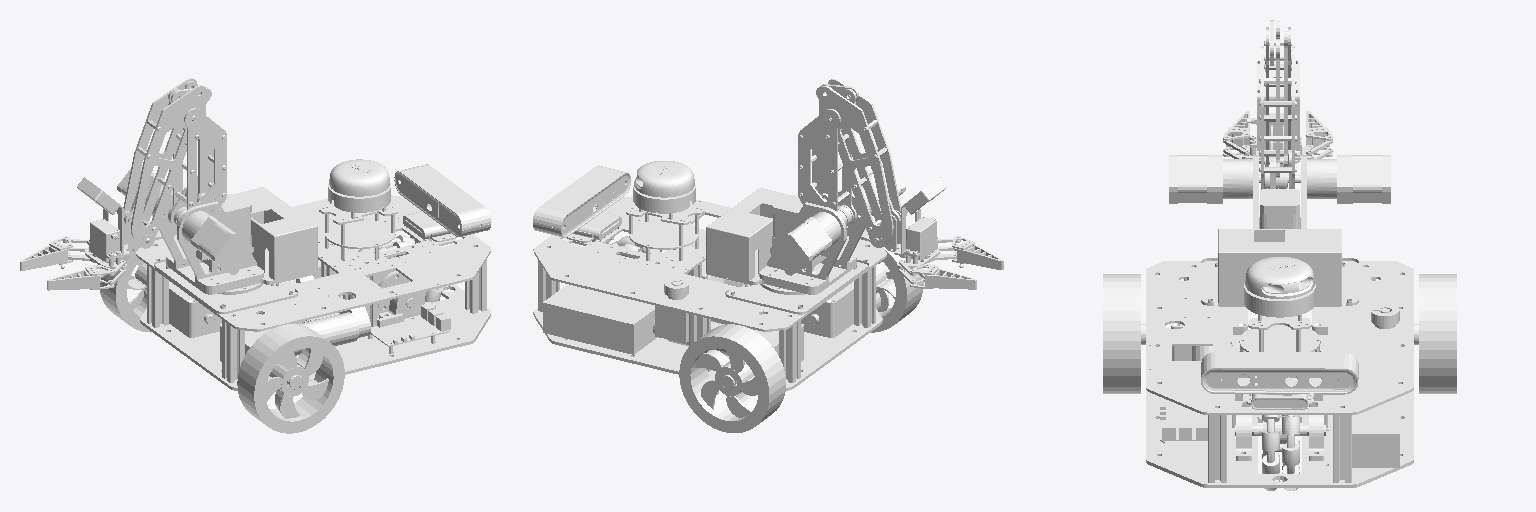
robot.urdf — diff_arm_urdf:
<?xml version="1.0" encoding="utf-8"?>
<!-- This URDF was automatically created by SolidWorks to URDF Exporter! Originally created by [author] ([email redacted]) 
     Commit Version: 1.6.0-1-g15f4949  Build Version: 1.6.7594.29634
     For more information, please see http://wiki.ros.org/sw_urdf_exporter -->
<robot
  name="diff_arm_urdf">
  <link
    name="base_footprint">
    <inertial>
      <origin
        xyz="-0.00679508345518763 0.0300862380533613 0.0763571603396315"
        rpy="0 0 0" />
      <mass
        value="1.33060153789438" />
      <inertia
        ixx="0.00909859740811602"
        ixy="-0.00253881142564547"
        ixz="0.000203241625702341"
        iyy="0.014317321035719"
        iyz="0.000248631827554909"
        izz="0.0215219018401927" />
    </inertial>
    <visual>
      <origin
        xyz="0 0 0"
        rpy="0 0 0" />
      <geometry>
        <mesh
          filename="package://diff_arm_urdf/meshes/base_footprint.STL" />
      </geometry>
      <material
        name="">
        <color
          rgba="1 1 1 1" />
      </material>
    </visual>
    <collision>
      <origin
        xyz="0 0 0"
        rpy="0 0 0" />
      <geometry>
        <mesh
          filename="package://diff_arm_urdf/meshes/base_footprint.STL" />
      </geometry>
    </collision>
  </link>
  <link
    name="base_link">
    <inertial>
      <origin
        xyz="-0.0113574218523922 -7.83201513244107E-05 0.039"
        rpy="0 0 0" />
      <mass
        value="0.37263078731193" />
      <inertia
        ixx="0.00244274203886756"
        ixy="3.99258979094287E-06"
        ixz="-3.51281385380843E-19"
        iyy="0.00403520712772273"
        iyz="1.59272832936635E-18"
        izz="0.00647695548449079" />
    </inertial>
    <visual>
      <origin
        xyz="0 0 0"
        rpy="0 0 0" />
      <geometry>
        <mesh
          filename="package://diff_arm_urdf/meshes/base_link.STL" />
      </geometry>
      <material
        name="">
        <color
          rgba="1 1 1 1" />
      </material>
    </visual>
    <collision>
      <origin
        xyz="0 0 0"
        rpy="0 0 0" />
      <geometry>
        <mesh
          filename="package://diff_arm_urdf/meshes/base_link.STL" />
      </geometry>
    </collision>
  </link>
  <joint
    name="base_joint"
    type="fixed">
    <origin
      xyz="0 0 0"
      rpy="0 0 0" />
    <parent
      link="base_footprint" />
    <child
      link="base_link" />
    <axis
      xyz="0 0 0" />
  </joint>
  <link
    name="laser">
    <inertial>
      <origin
        xyz="0.00105618852031979 3.49987868704989E-07 -0.0517634009958734"
        rpy="0 0 0" />
      <mass
        value="0.0227636822242032" />
      <inertia
        ixx="1.49959314352712E-05"
        ixy="1.91587089965193E-15"
        ixz="-9.21139073057379E-08"
        iyy="1.8339251026184E-05"
        iyz="1.01195991512178E-14"
        izz="2.11892376363778E-05" />
    </inertial>
    <visual>
      <origin
        xyz="0 0 0"
        rpy="0 0 0" />
      <geometry>
        <mesh
          filename="package://diff_arm_urdf/meshes/laser.STL" />
      </geometry>
      <material
        name="">
        <color
          rgba="1 1 1 1" />
      </material>
    </visual>
    <collision>
      <origin
        xyz="0 0 0"
        rpy="0 0 0" />
      <geometry>
        <mesh
          filename="package://diff_arm_urdf/meshes/laser.STL" />
      </geometry>
    </collision>
  </link>
  <joint
    name="laser_joint"
    type="fixed">
    <origin
      xyz="0.0518424470364726 0 0.208749999999999"
      rpy="0 0 3.14159265358979" />
    <parent
      link="base_footprint" />
    <child
      link="laser" />
    <axis
      xyz="0 0 0" />
  </joint>
  <link
    name="camera_link">
    <inertial>
      <origin
        xyz="-0.0213022638886161 0.000909870954425895 -0.00871264962753322"
        rpy="0 0 0" />
      <mass
        value="0.0670434692996525" />
      <inertia
        ixx="0.000141292970030921"
        ixy="-9.28244027785135E-07"
        ixz="-4.23437348527173E-06"
        iyy="3.36994076709941E-05"
        iyz="1.61132954670971E-08"
        izz="0.000140581384194877" />
    </inertial>
    <visual>
      <origin
        xyz="0 0 0"
        rpy="0 0 0" />
      <geometry>
        <mesh
          filename="package://diff_arm_urdf/meshes/camera_link.STL" />
      </geometry>
      <material
        name="">
        <color
          rgba="1 1 1 1" />
      </material>
    </visual>
    <collision>
      <origin
        xyz="0 0 0"
        rpy="0 0 0" />
      <geometry>
        <mesh
          filename="package://diff_arm_urdf/meshes/camera_link.STL" />
      </geometry>
    </collision>
  </link>
  <joint
    name="camera_joint"
    type="fixed">
    <origin
      xyz="0.184191453853784 -0.000968380831355597 0.159250000003223"
      rpy="0 0 0" />
    <parent
      link="base_footprint" />
    <child
      link="camera_link" />
    <axis
      xyz="0 0 0" />
  </joint>
  <link
    name="gyro_link">
    <inertial>
      <origin
        xyz="-0.0045777416412072 0.00835423891631156 -0.00725769063322818"
        rpy="0 0 0" />
      <mass
        value="0.0302078766171517" />
      <inertia
        ixx="1.90745065611651E-05"
        ixy="-1.08502449779359E-06"
        ixz="-8.28986695486326E-07"
        iyy="1.35014281193622E-05"
        iyz="-3.53295216149779E-07"
        izz="2.9513354986305E-05" />
    </inertial>
    <visual>
      <origin
        xyz="0 0 0"
        rpy="0 0 0" />
      <geometry>
        <mesh
          filename="package://diff_arm_urdf/meshes/gyro_link.STL" />
      </geometry>
      <material
        name="">
        <color
          rgba="1 1 1 1" />
      </material>
    </visual>
    <collision>
      <origin
        xyz="0 0 0"
        rpy="0 0 0" />
      <geometry>
        <mesh
          filename="package://diff_arm_urdf/meshes/gyro_link.STL" />
      </geometry>
    </collision>
  </link>
  <joint
    name="gyro_joint"
    type="fixed">
    <origin
      xyz="-0.0563968552920177 -0.0101606424782208 0.0679999999999994"
      rpy="0 0 0" />
    <parent
      link="base_footprint" />
    <child
      link="gyro_link" />
    <axis
      xyz="0 0 0" />
  </joint>
  <link
    name="arm_A_Link">
    <inertial>
      <origin
        xyz="-0.0264724837540366 -0.000111845096370238 0.0635926915529551"
        rpy="0 0 0" />
      <mass
        value="0.694434511672936" />
      <inertia
        ixx="0.00282734187002656"
        ixy="-2.70317415977915E-06"
        ixz="0.000593730119000428"
        iyy="0.00191520864069231"
        iyz="1.73694248271686E-06"
        izz="0.00309883145832748" />
    </inertial>
    <visual>
      <origin
        xyz="0 0 0"
        rpy="0 0 0" />
      <geometry>
        <mesh
          filename="package://diff_arm_urdf/meshes/arm_A_Link.STL" />
      </geometry>
      <material
        name="">
        <color
          rgba="1 1 1 1" />
      </material>
    </visual>
    <collision>
      <origin
        xyz="0 0 0"
        rpy="0 0 0" />
      <geometry>
        <mesh
          filename="package://diff_arm_urdf/meshes/arm_A_Link.STL" />
      </geometry>
    </collision>
  </link>
  <joint
    name="arm_A_joint"
    type="revolute">
    <origin
      xyz="-0.1278607150477 0 0.125999999999998"
      rpy="0 0 0" />
    <parent
      link="base_footprint" />
    <child
      link="arm_A_Link" />
    <axis
      xyz="0 0 1" />
    <limit
      lower="-2"
      upper="2"
      effort="0"
      velocity="0" />
  </joint>
  <link
    name="arm_B_link">
    <inertial>
      <origin
        xyz="0.0137501838147579 -0.0034742583084419 0.0785832961582796"
        rpy="0 0 0" />
      <mass
        value="0.0608399290831052" />
      <inertia
        ixx="0.000178362125392117"
        ixy="2.95560444454629E-07"
        ixz="3.12901951783709E-06"
        iyy="0.000182485599284914"
        iyz="4.62729736572171E-06"
        izz="2.64740312661642E-05" />
    </inertial>
    <visual>
      <origin
        xyz="0 0 0"
        rpy="0 0 0" />
      <geometry>
        <mesh
          filename="package://diff_arm_urdf/meshes/arm_B_link.STL" />
      </geometry>
      <material
        name="">
        <color
          rgba="1 1 1 1" />
      </material>
    </visual>
    <collision>
      <origin
        xyz="0 0 0"
        rpy="0 0 0" />
      <geometry>
        <mesh
          filename="package://diff_arm_urdf/meshes/arm_B_link.STL" />
      </geometry>
    </collision>
  </link>
  <joint
    name="arm_B_joint"
    type="revolute">
    <origin
      xyz="-0.0600000000000018 0.00270000000000291 0.0920000000000002"
      rpy="0 0 0" />
    <parent
      link="arm_A_Link" />
    <child
      link="arm_B_link" />
    <axis
      xyz="0 -1 0" />
    <limit
      lower="-1.571"
      upper="0"
      effort="0"
      velocity="0" />
  </joint>
  <link
    name="arm_C_link">
    <inertial>
      <origin
        xyz="-0.0370610734582612 2.91815183128818E-14 -0.0522588539303277"
        rpy="0 0 0" />
      <mass
        value="0.0476509953290939" />
      <inertia
        ixx="0.000154071541930852"
        ixy="4.03871395495921E-14"
        ixz="-5.01510681020364E-05"
        iyy="0.000179114715069409"
        iyz="1.83638596531485E-13"
        izz="3.56376865654408E-05" />
    </inertial>
    <visual>
      <origin
        xyz="0 0 0"
        rpy="0 0 0" />
      <geometry>
        <mesh
          filename="package://diff_arm_urdf/meshes/arm_C_link.STL" />
      </geometry>
      <material
        name="">
        <color
          rgba="1 1 1 1" />
      </material>
    </visual>
    <collision>
      <origin
        xyz="0 0 0"
        rpy="0 0 0" />
      <geometry>
        <mesh
          filename="package://diff_arm_urdf/meshes/arm_C_link.STL" />
      </geometry>
    </collision>
  </link>
  <joint
    name="arm_C_joint"
    type="revolute">
    <origin
      xyz="0 -0.00469999999999916 0.14"
      rpy="0 0 0" />
    <parent
      link="arm_B_link" />
    <child
      link="arm_C_link" />
    <axis
      xyz="0 1 0" />
    <limit
      lower="0"
      upper="1.9063"
      effort="0"
      velocity="0" />
  </joint>
  <link
    name="arm_D_link">
    <inertial>
      <origin
        xyz="0.0426607681767655 -4.06151477444442E-05 0.0228578556676942"
        rpy="0 0 0" />
      <mass
        value="0.025564123195519" />
      <inertia
        ixx="3.75438572772238E-05"
        ixy="3.9878664075609E-09"
        ixz="-8.55558653624712E-06"
        iyy="4.10259312919746E-05"
        iyz="-5.21188484904984E-08"
        izz="1.52592498144711E-05" />
    </inertial>
    <visual>
      <origin
        xyz="0 0 0"
        rpy="0 0 0" />
      <geometry>
        <mesh
          filename="package://diff_arm_urdf/meshes/arm_D_link.STL" />
      </geometry>
      <material
        name="">
        <color
          rgba="1 1 1 1" />
      </material>
    </visual>
    <collision>
      <origin
        xyz="0 0 0"
        rpy="0 0 0" />
      <geometry>
        <mesh
          filename="package://diff_arm_urdf/meshes/arm_D_link.STL" />
      </geometry>
    </collision>
  </link>
  <joint
    name="arm_D_link"
    type="revolute">
    <origin
      xyz="-0.0610951661453845 0 -0.147876234309874"
      rpy="0 0 -3.14159265358979" />
    <parent
      link="arm_C_link" />
    <child
      link="arm_D_link" />
    <axis
      xyz="0 -1 0" />
    <limit
      lower="-3.14"
      upper="3.14"
      effort="0"
      velocity="0" />
  </joint>
  <link
    name="hand_left_link">
    <inertial>
      <origin
        xyz="-0.00753753637621285 -0.0163574643209444 0.00219562352348468"
        rpy="0 0 0" />
      <mass
        value="0.00273071796024516" />
      <inertia
        ixx="6.60138401791413E-07"
        ixy="-1.64562602126625E-07"
        ixz="-8.60462880654784E-09"
        iyy="3.72520853914511E-07"
        iyz="9.05275763916917E-08"
        izz="9.23178705684136E-07" />
    </inertial>
    <visual>
      <origin
        xyz="0 0 0"
        rpy="0 0 0" />
      <geometry>
        <mesh
          filename="package://diff_arm_urdf/meshes/hand_left_link.STL" />
      </geometry>
      <material
        name="">
        <color
          rgba="1 1 1 1" />
      </material>
    </visual>
    <collision>
      <origin
        xyz="0 0 0"
        rpy="0 0 0" />
      <geometry>
        <mesh
          filename="package://diff_arm_urdf/meshes/hand_left_link.STL" />
      </geometry>
    </collision>
  </link>
  <joint
    name="hand_left_joint"
    type="revolute">
    <origin
      xyz="0.0525136812976409 0.0124999999991741 -0.0219673229308039"
      rpy="0 0 3.14159265358979" />
    <parent
      link="arm_D_link" />
    <child
      link="hand_left_link" />
    <axis
      xyz="0.000622302046926235 0 0.999999806346669" />
    <limit
      lower="-3.14"
      upper="3.14"
      effort="0"
      velocity="0" />
  </joint>
  <link
    name="hand_left2_link">
    <inertial>
      <origin
        xyz="0.0181203907613409 -0.00379261033803911 -0.0106606236751677"
        rpy="0 0 0" />
      <mass
        value="0.00956820452926125" />
      <inertia
        ixx="8.410865309904E-07"
        ixy="5.21630491117772E-07"
        ixz="1.7070951702633E-08"
        iyy="3.44967927286522E-06"
        iyz="-3.21144827663326E-09"
        izz="3.65083913407338E-06" />
    </inertial>
    <visual>
      <origin
        xyz="0 0 0"
        rpy="0 0 0" />
      <geometry>
        <mesh
          filename="package://diff_arm_urdf/meshes/hand_left2_link.STL" />
      </geometry>
      <material
        name="">
        <color
          rgba="1 1 1 1" />
      </material>
    </visual>
    <collision>
      <origin
        xyz="0 0 0"
        rpy="0 0 0" />
      <geometry>
        <mesh
          filename="package://diff_arm_urdf/meshes/hand_left2_link.STL" />
      </geometry>
    </collision>
  </link>
  <joint
    name="hand_left2_joint"
    type="revolute">
    <origin
      xyz="-0.033019126986839 -0.0304213596355855 0.0153205520786008"
      rpy="0 0 -3.14159265358979" />
    <parent
      link="hand_left_link" />
    <child
      link="hand_left2_link" />
    <axis
      xyz="-0.000622302046926363 0 0.999999806346669" />
    <limit
      lower="-3.14"
      upper="3.14"
      effort="0"
      velocity="0" />
  </joint>
  <link
    name="hand_right_link">
    <inertial>
      <origin
        xyz="-0.0069983827866526 0.0151692244102018 0.0020348561129645"
        rpy="0 0 0" />
      <mass
        value="0.00294647468969655" />
      <inertia
        ixx="7.17220478124801E-07"
        ixy="1.8923715492203E-07"
        ixz="-5.36997946656936E-09"
        iyy="3.8825540657314E-07"
        iyz="-9.76519567111467E-08"
        izz="9.93743988829867E-07" />
    </inertial>
    <visual>
      <origin
        xyz="0 0 0"
        rpy="0 0 0" />
      <geometry>
        <mesh
          filename="package://diff_arm_urdf/meshes/hand_right_link.STL" />
      </geometry>
      <material
        name="">
        <color
          rgba="1 1 1 1" />
      </material>
    </visual>
    <collision>
      <origin
        xyz="0 0 0"
        rpy="0 0 0" />
      <geometry>
        <mesh
          filename="package://diff_arm_urdf/meshes/hand_right_link.STL" />
      </geometry>
    </collision>
  </link>
  <joint
    name="hand_right_joint"
    type="revolute">
    <origin
      xyz="0.0525136812977362 -0.012500000000844 -0.021967322930804"
      rpy="0 0 3.14159265358979" />
    <parent
      link="arm_D_link" />
    <child
      link="hand_right_link" />
    <axis
      xyz="0.000622302046926235 0 0.999999806346669" />
    <limit
      lower="-3.14"
      upper="3.14"
      effort="0"
      velocity="0" />
  </joint>
  <link
    name="hand_right2_link">
    <inertial>
      <origin
        xyz="0.0181214942934496 0.00378636759505215 -0.0106606230189322"
        rpy="0 0 0" />
      <mass
        value="0.00956820556695074" />
      <inertia
        ixx="8.41289462270779E-07"
        ixy="-5.22304026728889E-07"
        ixz="1.70681785639915E-08"
        iyy="3.44943612743795E-06"
        iyz="3.22764688864146E-09"
        izz="3.65079889560335E-06" />
    </inertial>
    <visual>
      <origin
        xyz="0 0 0"
        rpy="0 0 0" />
      <geometry>
        <mesh
          filename="package://diff_arm_urdf/meshes/hand_right2_link.STL" />
      </geometry>
      <material
        name="">
        <color
          rgba="1 1 1 1" />
      </material>
    </visual>
    <collision>
      <origin
        xyz="0 0 0"
        rpy="0 0 0" />
      <geometry>
        <mesh
          filename="package://diff_arm_urdf/meshes/hand_right2_link.STL" />
      </geometry>
    </collision>
  </link>
  <joint
    name="hand_right2_joint"
    type="revolute">
    <origin
      xyz="-0.0330191269858408 0.0304213596362493 0.0153205520785999"
      rpy="0 0 -3.14159265358979" />
    <parent
      link="hand_right_link" />
    <child
      link="hand_right2_link" />
    <axis
      xyz="-0.000622302046944867 0 0.999999806346669" />
    <limit
      lower="-3.14"
      upper="3.14"
      effort="0"
      velocity="0" />
  </joint>
  <link
    name="grasper_Link">
    <inertial>
      <origin
        xyz="0 0 0"
        rpy="0 0 0" />
      <mass
        value="6.54498469497874E-05" />
      <inertia
        ixx="1.63624617374468E-10"
        ixy="9.90094501970346E-29"
        ixz="8.07793566847814E-28"
        iyy="1.63624617374468E-10"
        iyz="-1.15903738283117E-27"
        izz="1.63624617374468E-10" />
    </inertial>
    <visual>
      <origin
        xyz="0 0 0"
        rpy="0 0 0" />
      <geometry>
        <mesh
          filename="package://diff_arm_urdf/meshes/grasper_Link.STL" />
      </geometry>
      <material
        name="">
        <color
          rgba="1 1 1 1" />
      </material>
    </visual>
    <collision>
      <origin
        xyz="0 0 0"
        rpy="0 0 0" />
      <geometry>
        <mesh
          filename="package://diff_arm_urdf/meshes/grasper_Link.STL" />
      </geometry>
    </collision>
  </link>
  <joint
    name="grasper_joint"
    type="revolute">
    <origin
      xyz="0.109009483404693 0 -0.0149321619970665"
      rpy="0 0 0" />
    <parent
      link="arm_D_link" />
    <child
      link="grasper_Link" />
    <axis
      xyz="0 1 0" />
    <limit
      lower="-3.14"
      upper="3.14"
      effort="0"
      velocity="0" />
  </joint>
  <link
    name="left_link">
    <inertial>
      <origin
        xyz="9.31523244068755E-06 -0.00134208828918936 1.47128448660383E-09"
        rpy="0 0 0" />
      <mass
        value="0.270023920019254" />
      <inertia
        ixx="0.000379491512067426"
        ixy="-1.6726721973514E-09"
        ixz="1.48053049141912E-10"
        iyy="0.000678207093188891"
        iyz="-9.65385438133801E-11"
        izz="0.000379390581162588" />
    </inertial>
    <visual>
      <origin
        xyz="0 0 0"
        rpy="0 0 0" />
      <geometry>
        <mesh
          filename="package://diff_arm_urdf/meshes/left_link.STL" />
      </geometry>
      <material
        name="">
        <color
          rgba="1 1 1 1" />
      </material>
    </visual>
    <collision>
      <origin
        xyz="0 0 0"
        rpy="0 0 0" />
      <geometry>
        <mesh
          filename="package://diff_arm_urdf/meshes/left_link.STL" />
      </geometry>
    </collision>
  </link>
  <joint
    name="left_joint"
    type="continuous">
    <origin
      xyz="-0.1377607135656 0.16485 0.06249999999999"
      rpy="0 0 0" />
    <parent
      link="base_footprint" />
    <child
      link="left_link" />
    <axis
      xyz="0 1 0" />
  </joint>
  <link
    name="right_link">
    <inertial>
      <origin
        xyz="9.31523244067367E-06 0.00134208828918939 -1.47128449007328E-09"
        rpy="0 0 0" />
      <mass
        value="0.270023920019254" />
      <inertia
        ixx="0.000379491512067426"
        ixy="1.67267219735631E-09"
        ixz="-1.48053049144841E-10"
        iyy="0.000678207093188891"
        iyz="-9.65385437788735E-11"
        izz="0.000379390581162588" />
    </inertial>
    <visual>
      <origin
        xyz="0 0 0"
        rpy="0 0 0" />
      <geometry>
        <mesh
          filename="package://diff_arm_urdf/meshes/right_link.STL" />
      </geometry>
      <material
        name="">
        <color
          rgba="1 1 1 1" />
      </material>
    </visual>
    <collision>
      <origin
        xyz="0 0 0"
        rpy="0 0 0" />
      <geometry>
        <mesh
          filename="package://diff_arm_urdf/meshes/right_link.STL" />
      </geometry>
    </collision>
  </link>
  <joint
    name="right_joint"
    type="continuous">
    <origin
      xyz="-0.1377607135656 -0.16485 0.06250000000001"
      rpy="0 0 0" />
    <parent
      link="base_footprint" />
    <child
      link="right_link" />
    <axis
      xyz="0 -1 0" />
  </joint>
  <link
    name="front_link">
    <inertial>
      <origin
        xyz="0.000121567351933999 -0.000930443629064534 -3.82049293971079E-05"
        rpy="0 0 0" />
      <mass
        value="0.195962747782098" />
      <inertia
        ixx="0.000245116267317137"
        ixy="-5.51498395490226E-08"
        ixz="1.9248001241712E-07"
        iyy="0.000440500896205931"
        iyz="1.71317428069371E-08"
        izz="0.000244987386170769" />
    </inertial>
    <visual>
      <origin
        xyz="0 0 0"
        rpy="0 0 0" />
      <geometry>
        <mesh
          filename="package://diff_arm_urdf/meshes/front_link.STL" />
      </geometry>
      <material
        name="">
        <color
          rgba="1 1 1 1" />
      </material>
    </visual>
    <collision>
      <origin
        xyz="0 0 0"
        rpy="0 0 0" />
      <geometry>
        <mesh
          filename="package://diff_arm_urdf/meshes/front_link.STL" />
      </geometry>
    </collision>
  </link>
  <joint
    name="front_joint"
    type="continuous">
    <origin
      xyz="0.09536071614855 0.000735153520954009 0.06"
      rpy="0 0 0" />
    <parent
      link="base_footprint" />
    <child
      link="front_link" />
    <axis
      xyz="0 -1 0" />
  </joint>
</robot>

--- What the picture shows (computed from the rendered views, not written in the file) ---
The picture shows the robot from 3 angles, left to right: view 1: azimuth 30°, elevation 25°; view 2: azimuth 150°, elevation 25°; view 3: azimuth 270°, elevation 25°; orthographic projection.
Robot: diff_arm_urdf — 17 links, 16 joints (9 revolute, 3 continuous, 4 fixed); root link base_footprint; default pose: every joint at zero.
Links seen in each view (by area): view 1: base_footprint, arm_A_Link, right_link, base_link, arm_C_link, laser, camera_link, arm_B_link, arm_D_link, left_link, front_link, hand_left2_link (+1 smaller); view 2: base_footprint, arm_A_Link, left_link, arm_C_link, laser, camera_link, arm_B_link, base_link, arm_D_link, right_link, hand_right2_link, hand_left2_link; view 3: base_footprint, arm_A_Link, base_link, camera_link, laser, right_link, left_link, arm_B_link, front_link, arm_D_link, arm_C_link, hand_right2_link (+1 smaller).
Boxes of the visible links, x1,y1,x2,y2 form: base_footprint: [136, 195, 490, 382]; arm_A_Link: [117, 165, 317, 294]; right_link: [237, 324, 344, 433]; base_link: [140, 284, 490, 390]; arm_C_link: [123, 78, 206, 248]; laser: [319, 159, 397, 260]; camera_link: [394, 164, 491, 241]; arm_B_link: [168, 81, 226, 226]; arm_D_link: [77, 177, 144, 269]; left_link: [100, 230, 162, 332]; front_link: [340, 235, 441, 315]; hand_left2_link: [47, 265, 114, 290]; base_footprint: [533, 196, 886, 382]; arm_A_Link: [706, 165, 905, 294]; left_link: [679, 324, 785, 432]; arm_C_link: [818, 79, 900, 247]; laser: [626, 161, 704, 260]; camera_link: [533, 165, 630, 242]; arm_B_link: [798, 84, 858, 225]; base_link: [533, 308, 882, 390]; arm_D_link: [880, 177, 946, 268]; right_link: [860, 228, 923, 332]; hand_right2_link: [910, 264, 976, 289]; hand_left2_link: [952, 236, 1003, 269]; base_footprint: [1146, 258, 1413, 482]; arm_A_Link: [1169, 155, 1390, 306]; base_link: [1146, 390, 1413, 487]; camera_link: [1201, 352, 1358, 409]; laser: [1239, 257, 1320, 351]; right_link: [1103, 274, 1165, 393]; left_link: [1414, 274, 1456, 393]; arm_B_link: [1259, 20, 1296, 189]; front_link: [1262, 415, 1299, 490]; arm_D_link: [1242, 60, 1313, 166]; arm_C_link: [1264, 21, 1291, 166]; hand_right2_link: [1306, 111, 1332, 156].
Bounding box of the posed robot: 0.5856 × 0.3697 × 0.3994 m (x, y, z).
17 mesh visuals loaded from 17 distinct referenced files (17 binary STL).